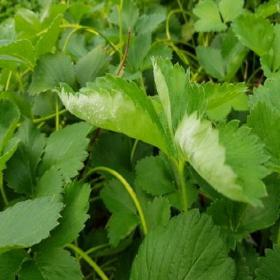Powdery Mildew Leaf: (51, 72, 173, 157), (173, 109, 274, 208)
